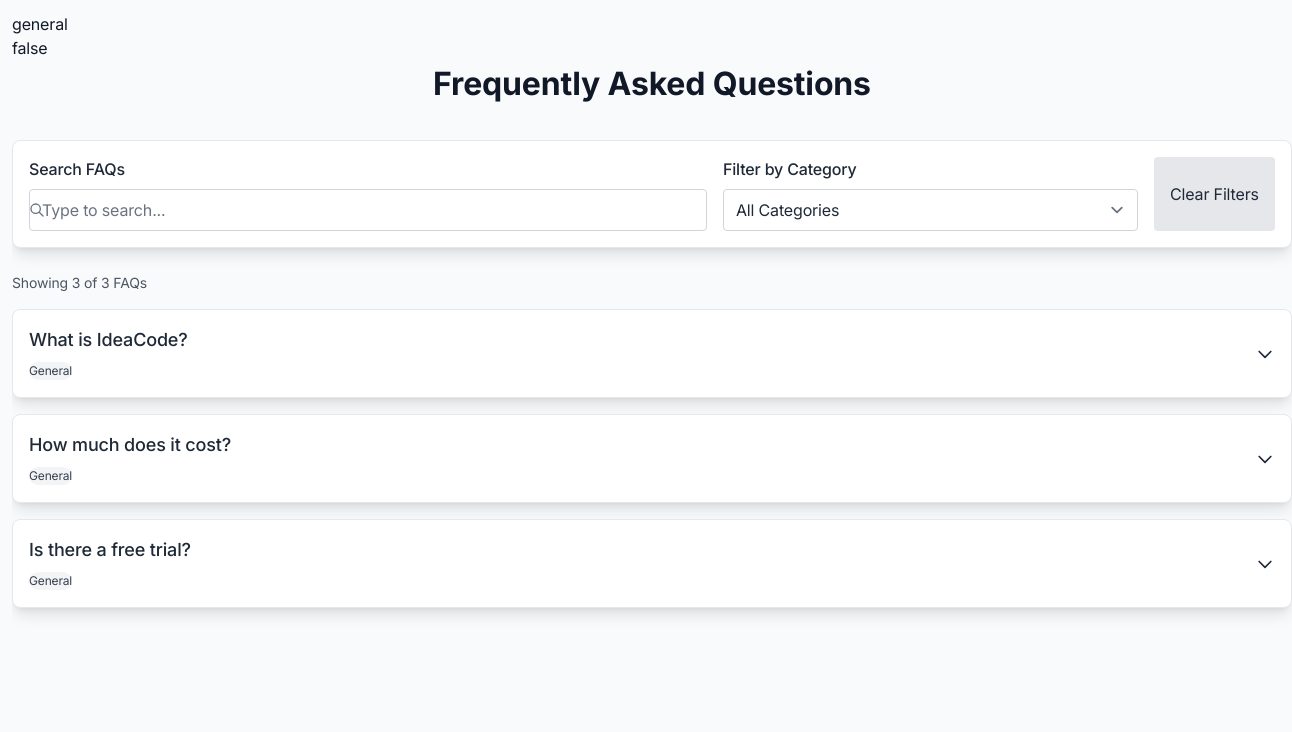
Interactive Components Integration › ExpandableFAQ › supports search functionality
Note: Search for "free"
Type "free" into the field with placeholder "Type to search..." at x=368, y=210, box [29,189,707,231]
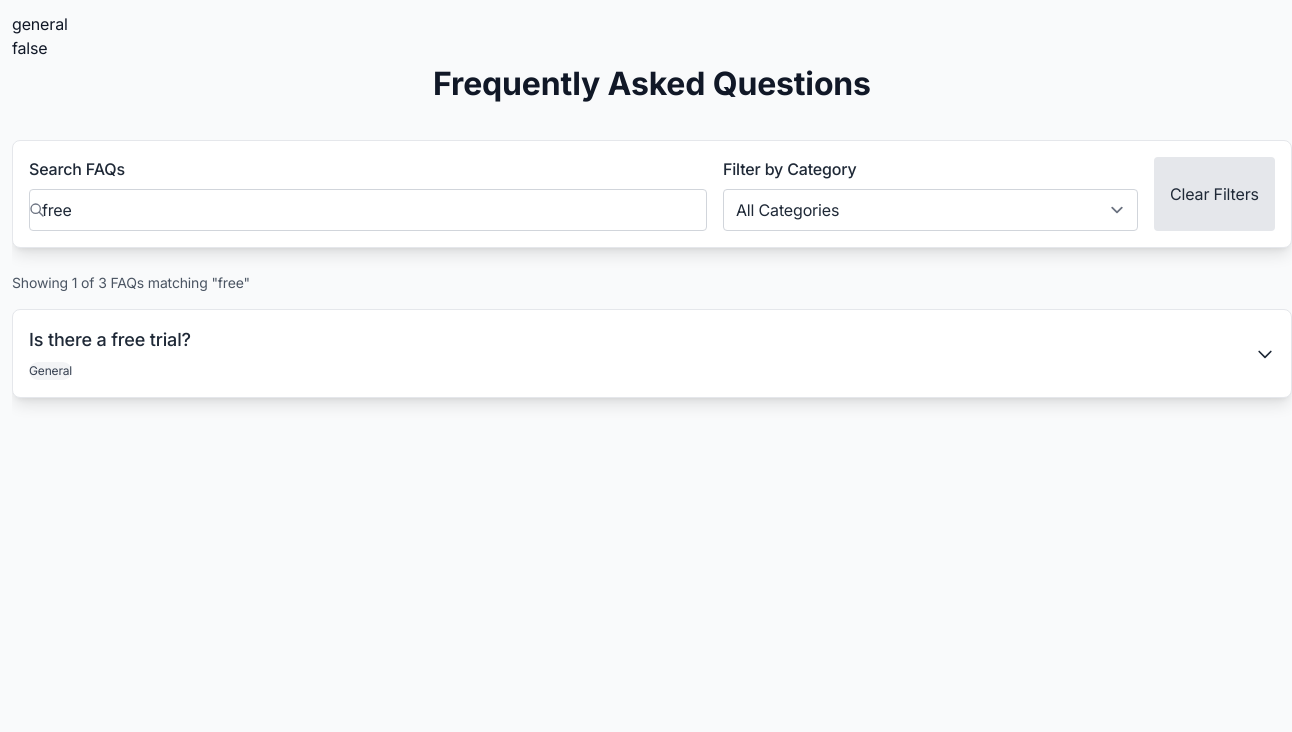
Check: the heading "Is there a free trial?" is shown, box [29,326,191,353]
Check: the button "How much does it cost?" is gone
Note: Clear the search
Clear the field with placeholder "Type to search..." at x=368, y=210, box [29,189,707,231]
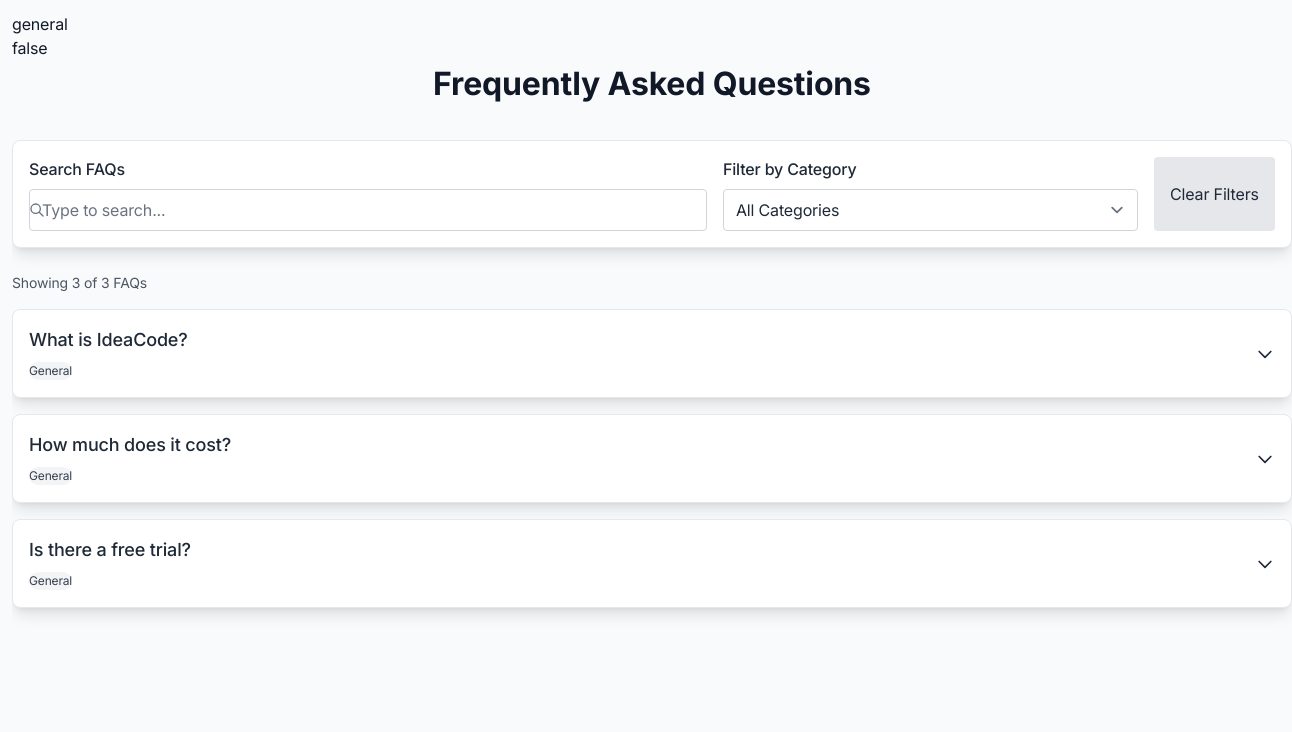
Check: the heading "Is there a free trial?" is shown, box [29,536,191,563]
Check: the heading "What is IdeaCode?" is shown, box [29,326,188,353]
Check: the heading "How much does it cost?" is shown, box [29,431,231,458]
